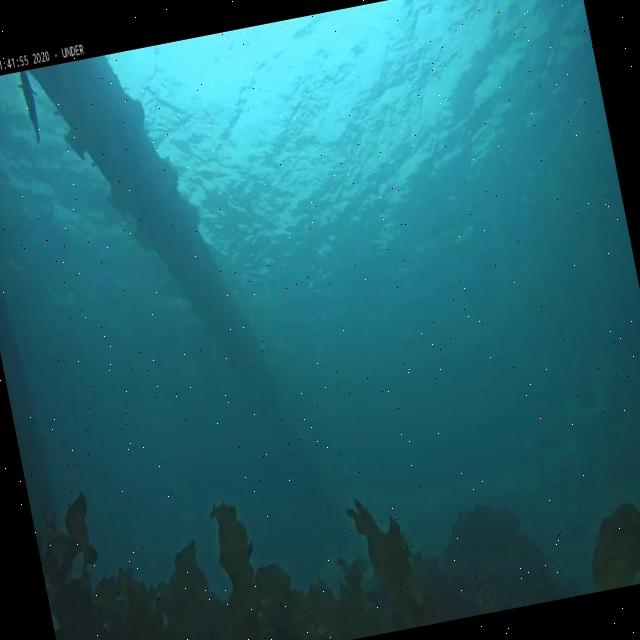fish: (16, 70, 46, 152)
